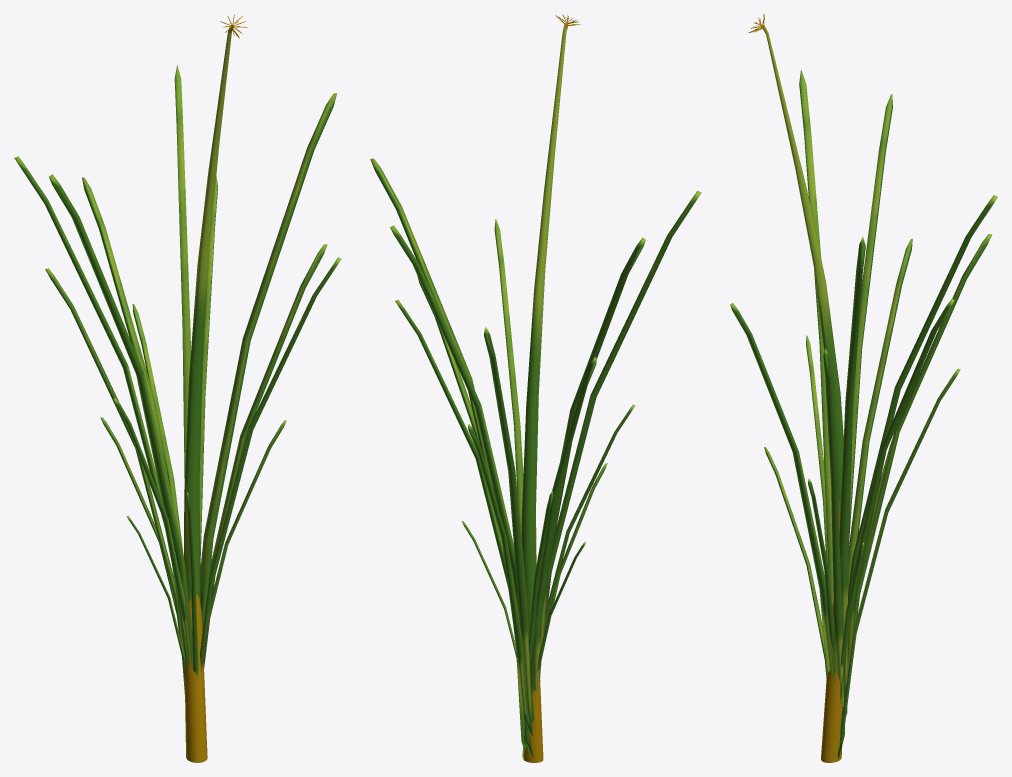
Rendered from rumput teki.fbx.
3 renders of one model, left to right at view 1: azimuth 30°, elevation 25°; view 2: azimuth 150°, elevation 25°; view 3: azimuth 270°, elevation 25°, orthographic. The views are drawn at different scales.
Parts seen in each view (by area): view 1: Cylinder, Plane.015, Plane.006, Plane.011, Plane.009, Plane.010, Plane.014, Plane.004, Plane.005, Plane.001, Plane.008, Plane (+3 smaller); view 2: Cylinder, Plane.004, Plane.006, Plane.011, Plane.005, Plane, Plane.009, Plane.010, Plane.015, Plane.001, Plane.008, Plane.014 (+2 smaller); view 3: Cylinder, Plane.015, Plane.006, Plane.010, Plane.009, Plane.004, Plane.014, Plane.001, Plane.005, Plane.011, Plane, Plane.008 (+3 smaller).
Boxes of the visible parts, x1,y1,x2,y2 form: Cylinder: (184, 14, 247, 762); Plane.015: (200, 93, 336, 629); Plane.006: (49, 174, 192, 668); Plane.011: (174, 65, 190, 480); Plane.009: (14, 156, 187, 672); Plane.010: (200, 257, 341, 671); Plane.014: (202, 244, 327, 631); Plane.004: (82, 177, 184, 694); Plane.005: (45, 268, 184, 678); Plane.001: (199, 176, 217, 567); Plane.008: (113, 398, 186, 620); Plane: (132, 304, 183, 554); Cylinder: (521, 14, 580, 762); Plane.004: (484, 327, 532, 739); Plane.006: (522, 190, 701, 757); Plane.011: (390, 225, 534, 722); Plane.005: (530, 357, 596, 693); Plane: (468, 424, 528, 751); Plane.009: (538, 237, 645, 681); Plane.010: (494, 219, 523, 537); Plane.015: (370, 158, 532, 735); Plane.001: (395, 299, 515, 646); Plane.008: (544, 404, 635, 630); Plane.014: (417, 275, 533, 758); Cylinder: (748, 14, 848, 762); Plane.015: (839, 237, 865, 716); Plane.006: (799, 70, 844, 759); Plane.010: (730, 303, 834, 684); Plane.009: (848, 94, 892, 551); Plane.004: (840, 234, 992, 734); Plane.014: (823, 348, 844, 742); Plane.001: (840, 299, 954, 703); Plane.005: (848, 238, 912, 586); Plane.011: (848, 195, 997, 601); Plane: (839, 368, 960, 750); Plane.008: (806, 335, 827, 563).
Size of the model in its own units: 84.7 by 194 by 63.33.
1 material, 1 textured.
